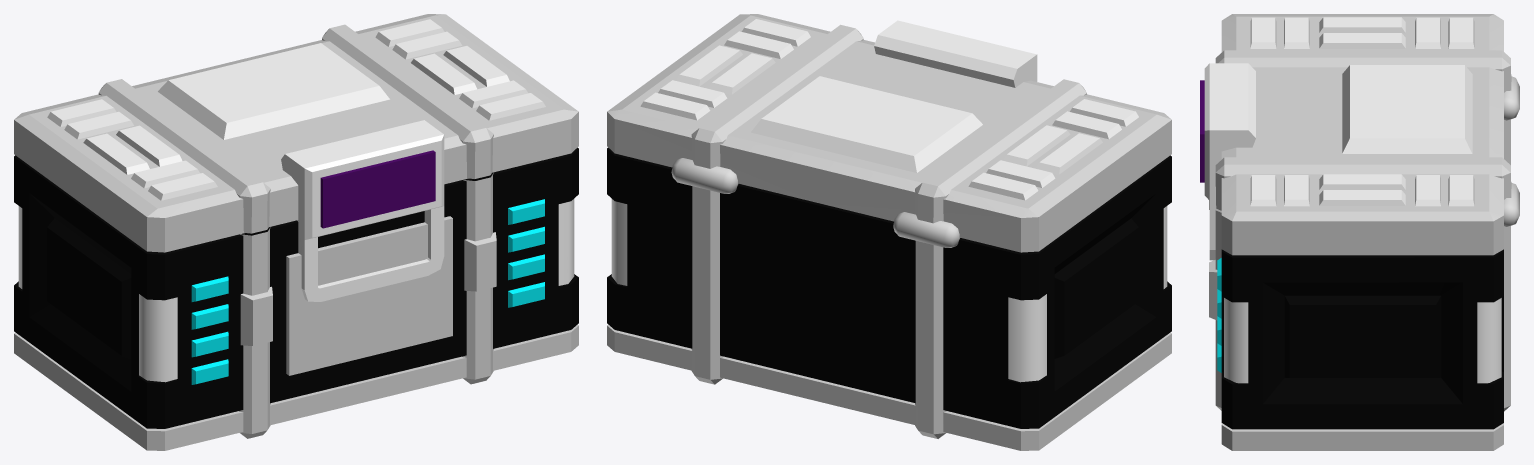
File: chest.fbx
The picture shows the model from 3 angles, left to right: view 1: azimuth 30°, elevation 25°; view 2: azimuth 150°, elevation 25°; view 3: azimuth 270°, elevation 25°; orthographic projection.
Parts seen in each view (by area): view 1: Box001, Object001; view 2: Box001, Object001; view 3: Object001, Box001.
Part boxes in pixels (x1,y1,x2,y2): Box001: (14,147,578,450); Object001: (14,14,578,301); Box001: (607,147,1171,450); Object001: (607,14,1171,252); Object001: (1200,14,1511,260); Box001: (1209,76,1519,450).
Size of the model in its own units: 560 by 327 by 365.
